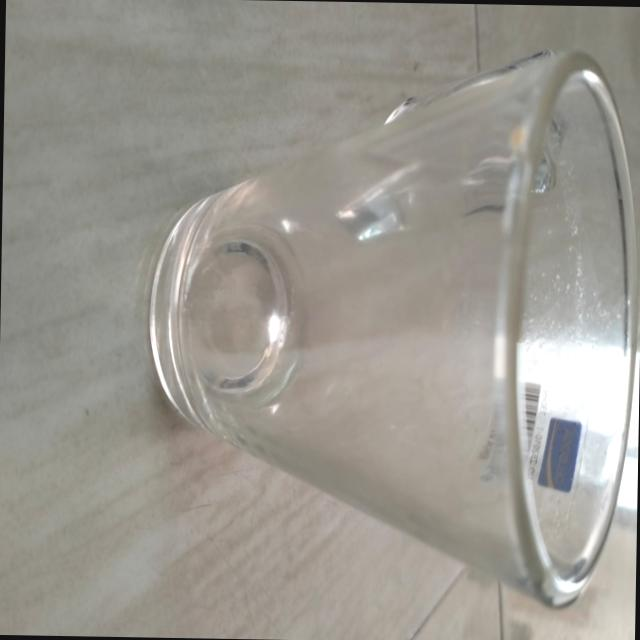glass-VX4N: (135, 30, 640, 621)
